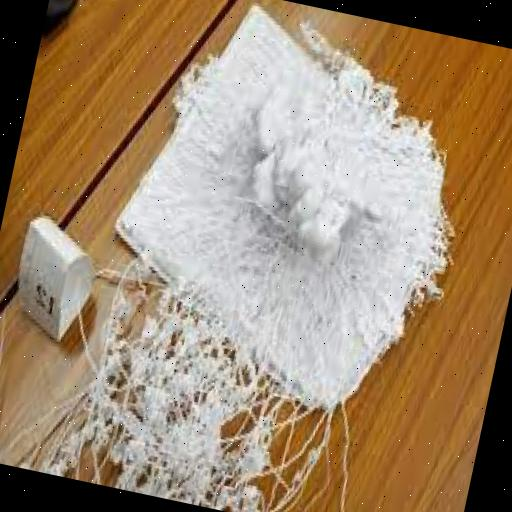spaghetti: (76, 24, 471, 512)
